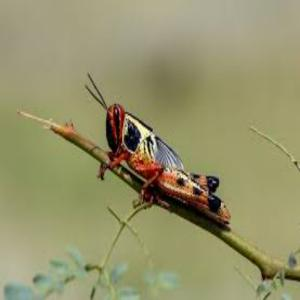locust: (85, 72, 247, 226)
